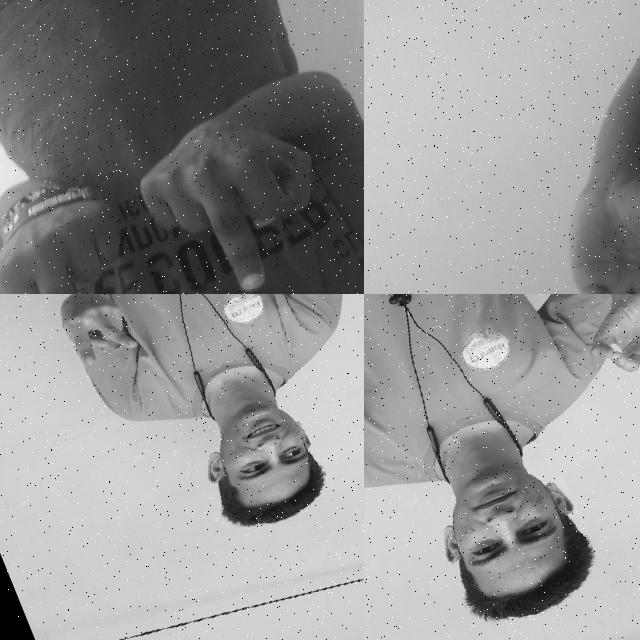Middle Finger: (113, 72, 343, 294), (0, 150, 164, 294)
Okay: (524, 119, 640, 294), (568, 294, 640, 424)
Reversed Victory: (46, 294, 149, 378)
